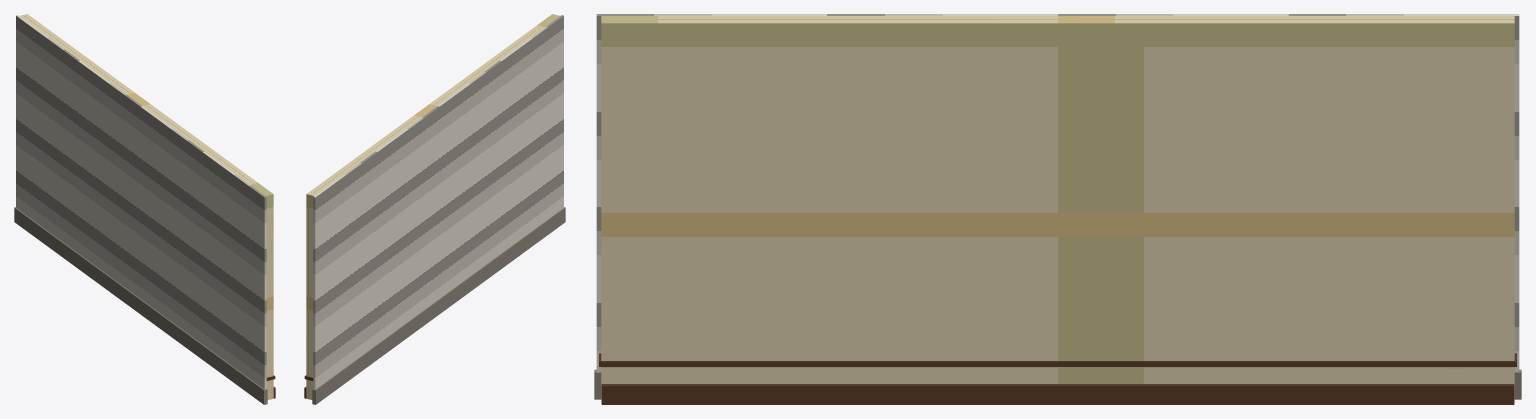
The model's file is left.glb.
3 views of the same model, side by side, from view 1: azimuth 30°, elevation 25°; view 2: azimuth 150°, elevation 25°; view 3: azimuth 270°, elevation 25° (orthographic). The views are drawn at different scales.
Parts seen in each view (by area): view 1: Box3, Box4, Box1; view 2: Box3, Box4, Box1; view 3: Box1, Box2, Box5, Box3, Box6.
Part boxes in pixels (<box>): Box3: <box>16,15,266,389</box>; Box4: <box>14,207,267,404</box>; Box1: <box>20,14,273,399</box>; Box3: <box>313,15,563,389</box>; Box4: <box>312,207,565,404</box>; Box1: <box>306,14,559,399</box>; Box1: <box>601,16,1514,402</box>; Box2: <box>601,384,1514,404</box>; Box5: <box>601,367,1514,398</box>; Box3: <box>596,14,1519,372</box>; Box6: <box>599,353,1516,366</box>.
Bounding box in the file's own units: 0.25 × 3.64 × 7.97.
4 materials, 2 textured.
